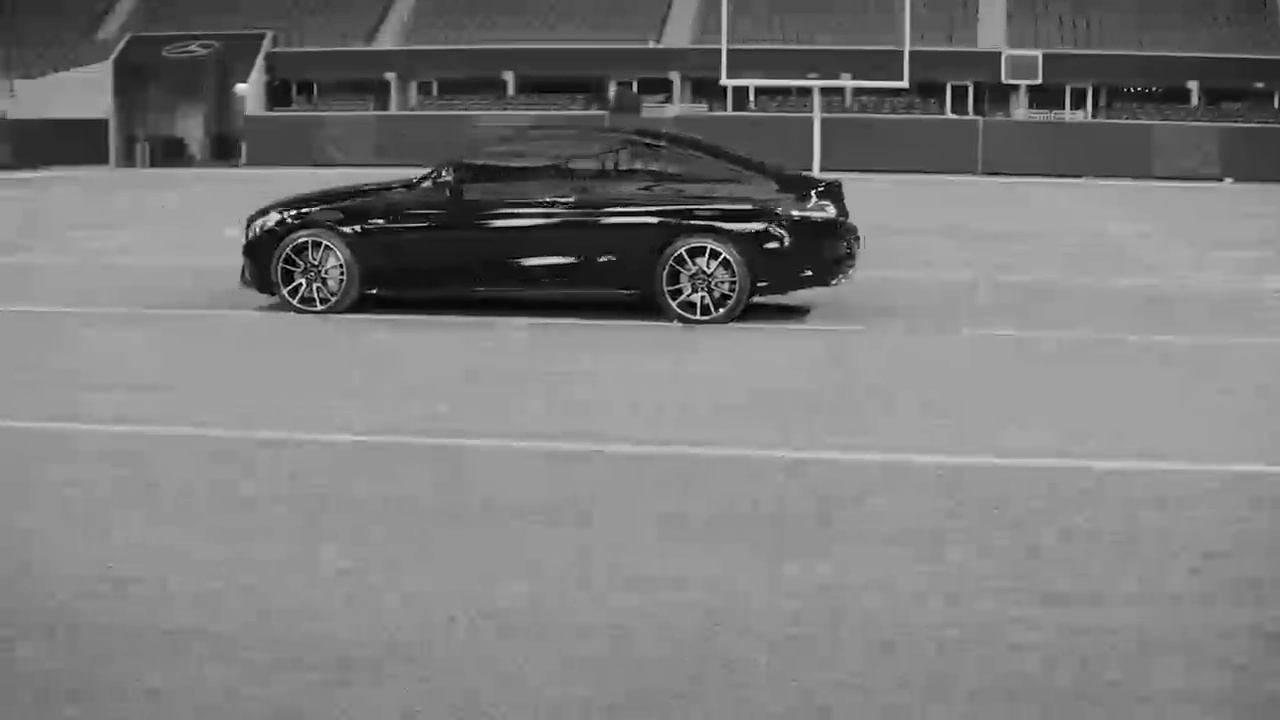car: (238, 127, 864, 329)
